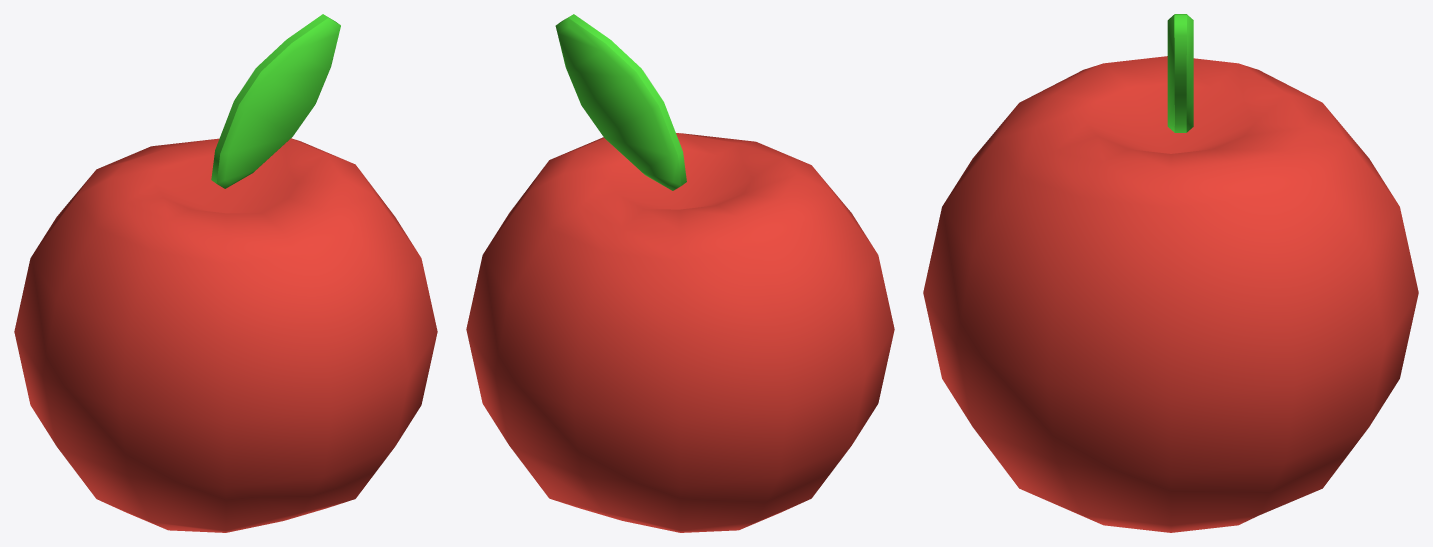
File: apple.fbx
The picture shows the model from 3 angles, left to right: view 1: azimuth 30°, elevation 25°; view 2: azimuth 150°, elevation 25°; view 3: azimuth 270°, elevation 25°; orthographic projection. The views are drawn at different scales.
Visible parts, largest first — view 1: Apple; view 2: Apple; view 3: Apple.
Part boxes in pixels (x1=…): Apple: x1=14, y1=14, x2=437, y2=532; Apple: x1=466, y1=14, x2=894, y2=532; Apple: x1=923, y1=14, x2=1418, y2=532.
Size of the model in its own units: 232 by 269 by 232.
